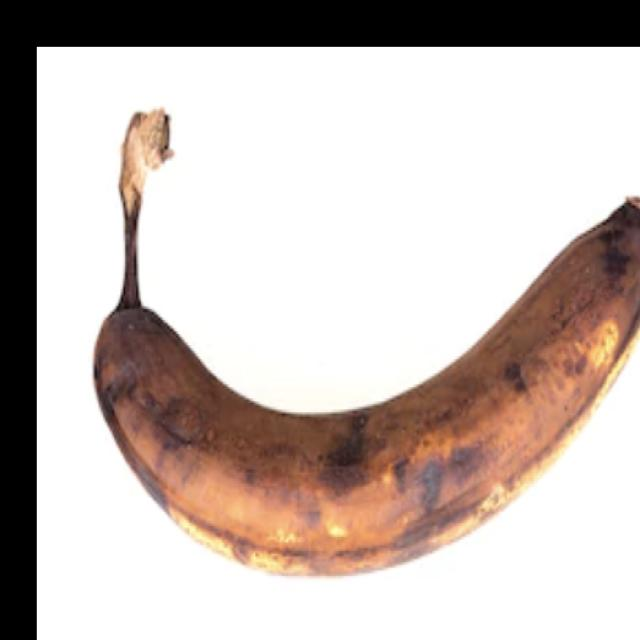Rotten: (62, 97, 640, 593)
